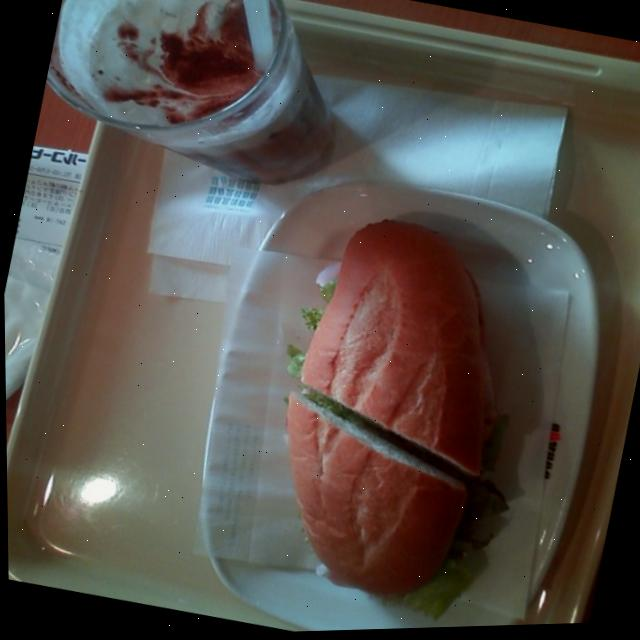三明治: (216, 190, 545, 635)
